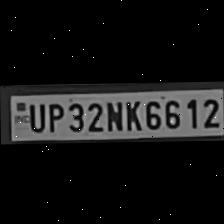1: (182, 96, 198, 128)
2: (198, 94, 220, 127), (84, 99, 104, 130)
3: (63, 99, 83, 130)
6: (160, 96, 182, 128), (140, 97, 160, 128)
K: (122, 98, 140, 130)
N: (104, 97, 122, 130)
P: (44, 99, 64, 131)
U: (24, 100, 44, 132)
